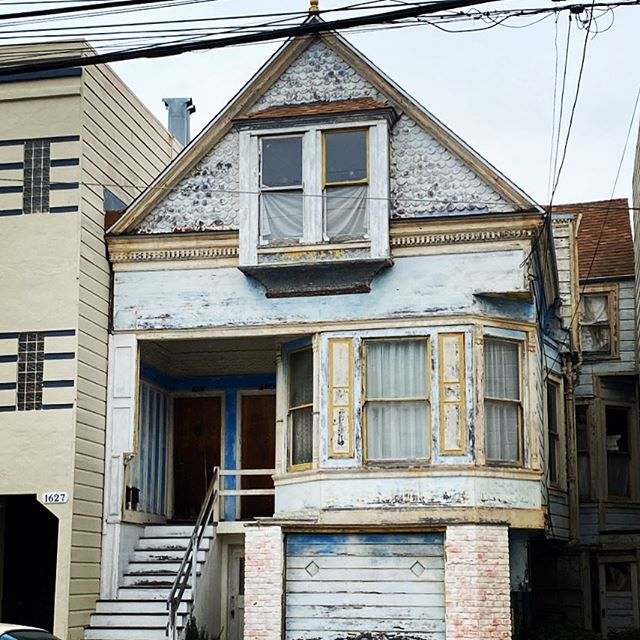building: (99, 34, 566, 639), (1, 44, 136, 640)
